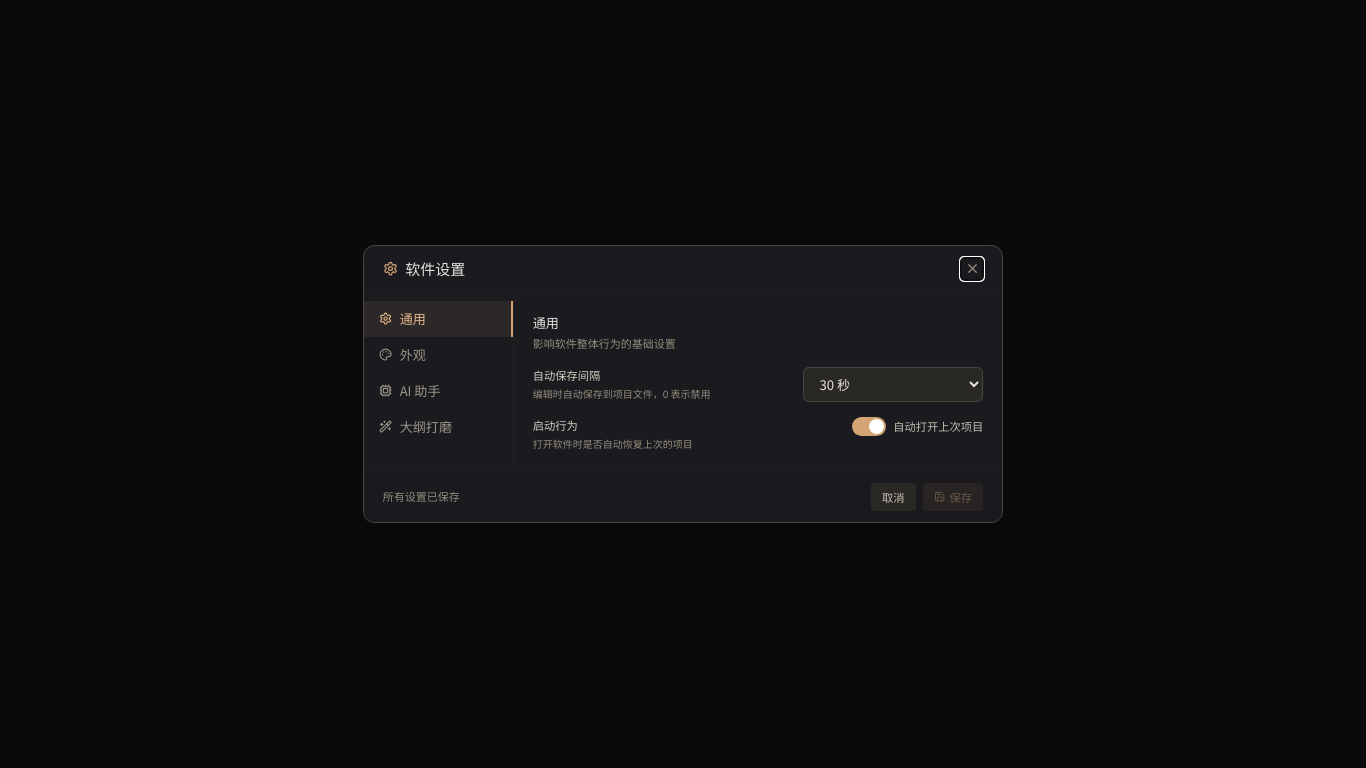
Test: SettingsModal › 点击"外观"切换 section
Click the button "外观". click: (438, 355)
box: [364,337,513,373]
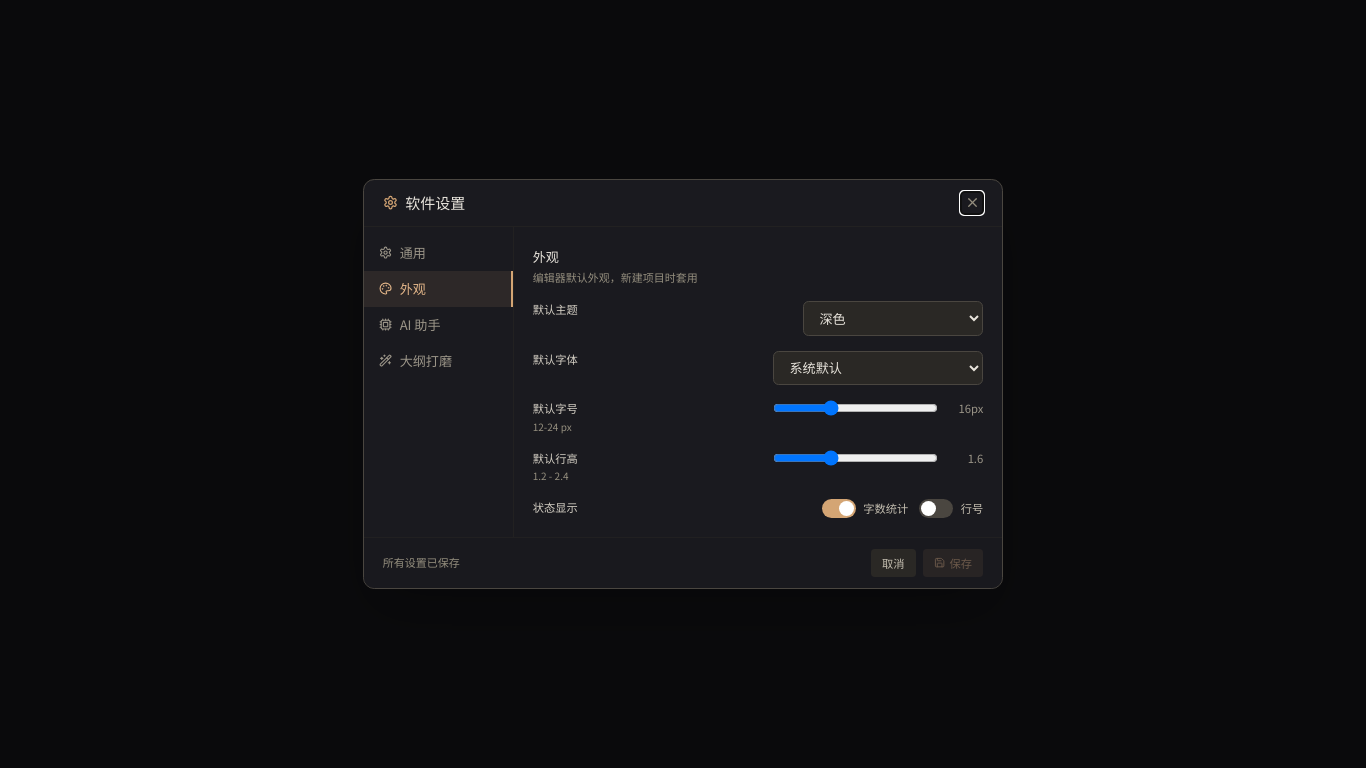
Now the text "编辑器默认外观，新建项目时套用" is shown, box [533,269,698,285]
